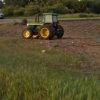Tractor: (15, 11, 70, 47)
